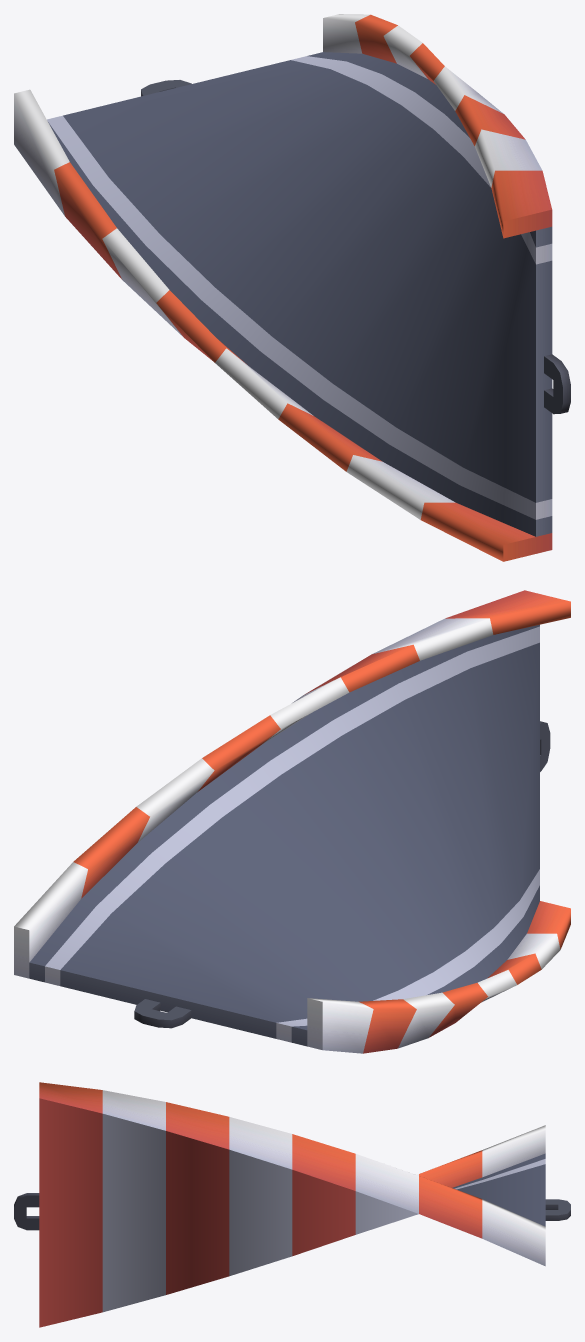
Rendered from kenney-toy-car-track-road-wide-straight-skew-right-side.glb.
3 renders of one model, top to bottom at view 1: azimuth 30°, elevation 25°; view 2: azimuth 150°, elevation 25°; view 3: azimuth 270°, elevation 25°, orthographic. The views are drawn at different scales.
Visible parts, largest first — view 1: track-road-wide-straight-skew-right-side; view 2: track-road-wide-straight-skew-right-side; view 3: track-road-wide-straight-skew-right-side.
Boxes of the visible parts, x1,y1,x2,y2 form: track-road-wide-straight-skew-right-side: (14,14,570,561); track-road-wide-straight-skew-right-side: (14,590,570,1053); track-road-wide-straight-skew-right-side: (14,1082,570,1327).
Size of the model in its own units: 2.04 by 2.04 by 4.4.
1 material, 1 textured.
